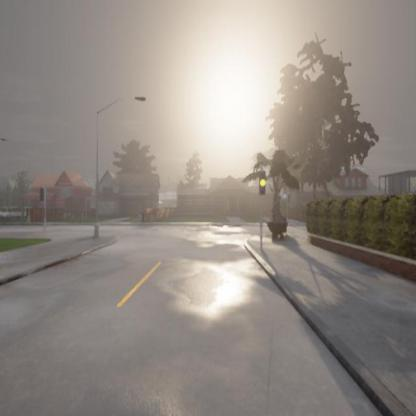traffic_light_orange: (260, 171, 266, 196)
